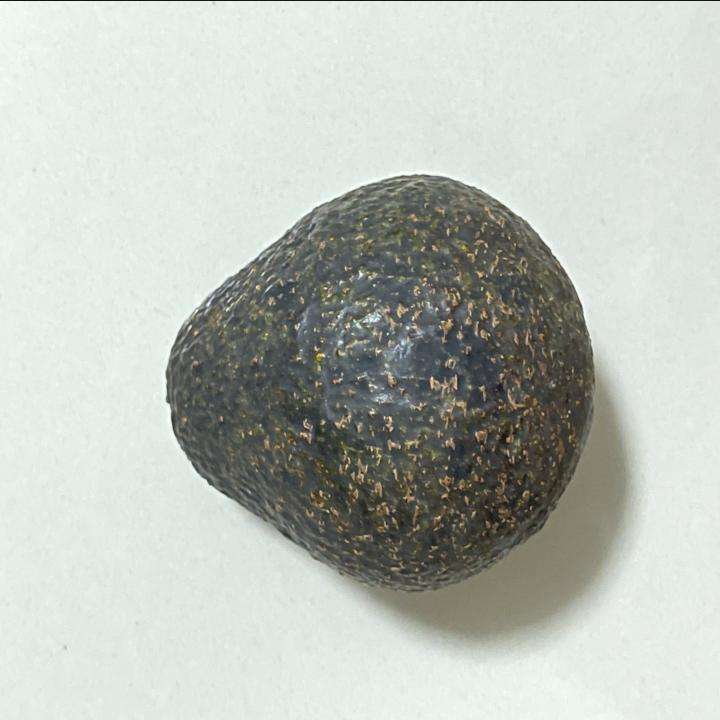Level2: (156, 162, 602, 604)
